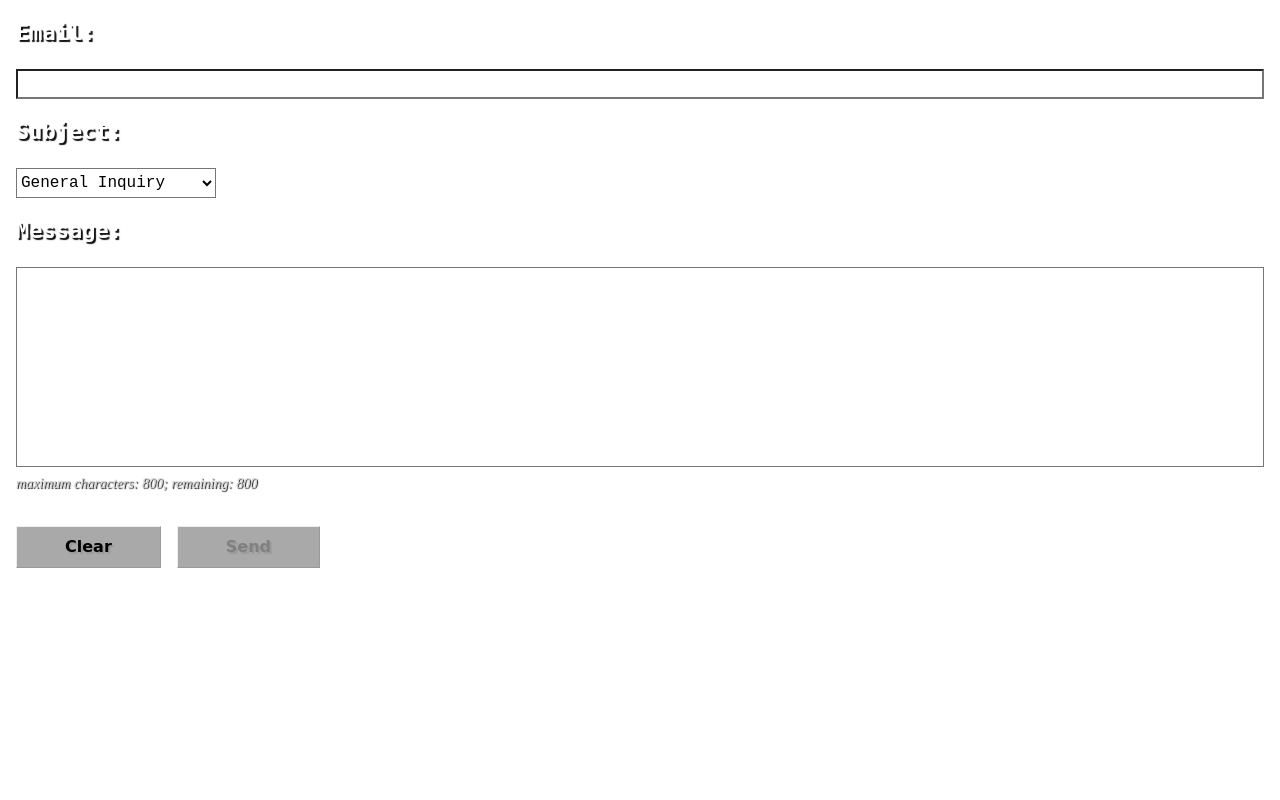
Test case: ContactForm › should show an error dialog window if the email is invalid
The width and height of the screenshot is (1280, 800).
Type "invalid-email" into the field labelled "Email". click: (640, 84)
box: [16,69,1264,99]
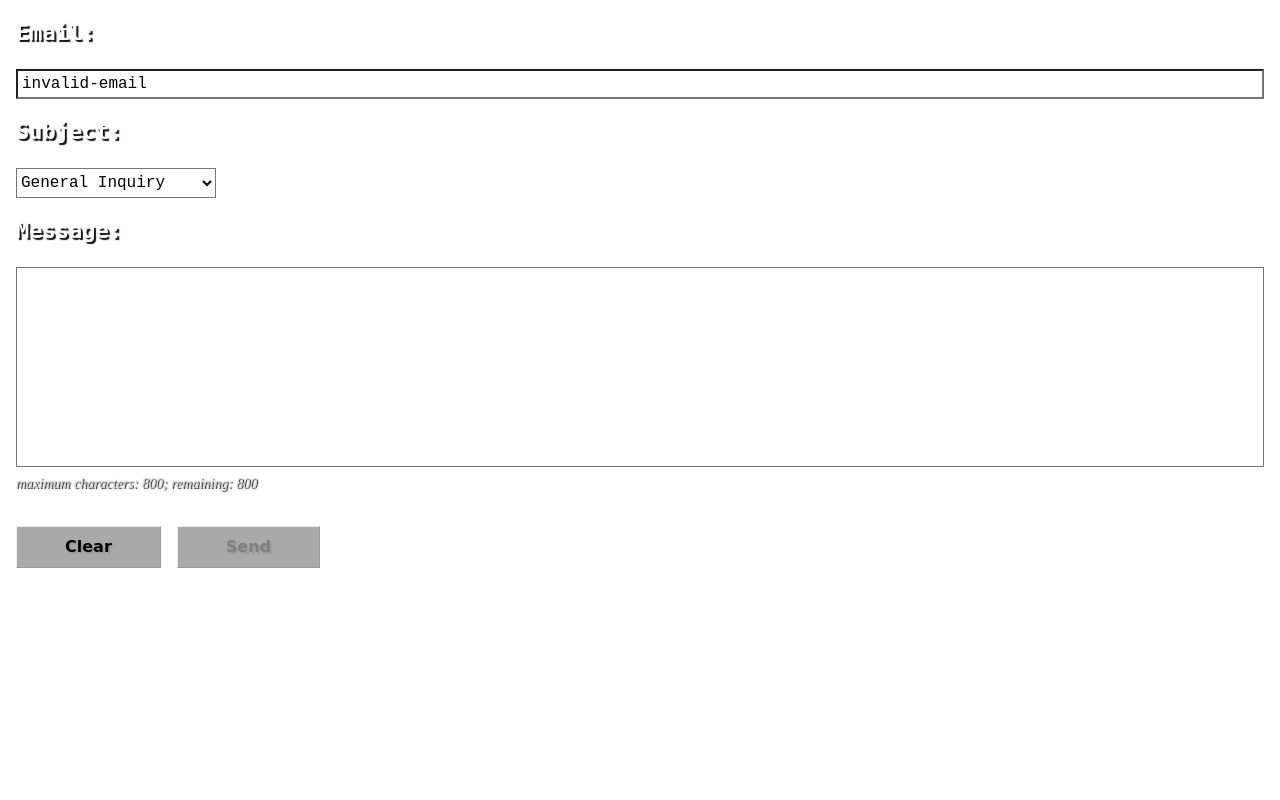
Type "macho macho man... I've got to be a macho man!" into the text box labelled "Message". click: (640, 367)
box: [16,267,1264,467]
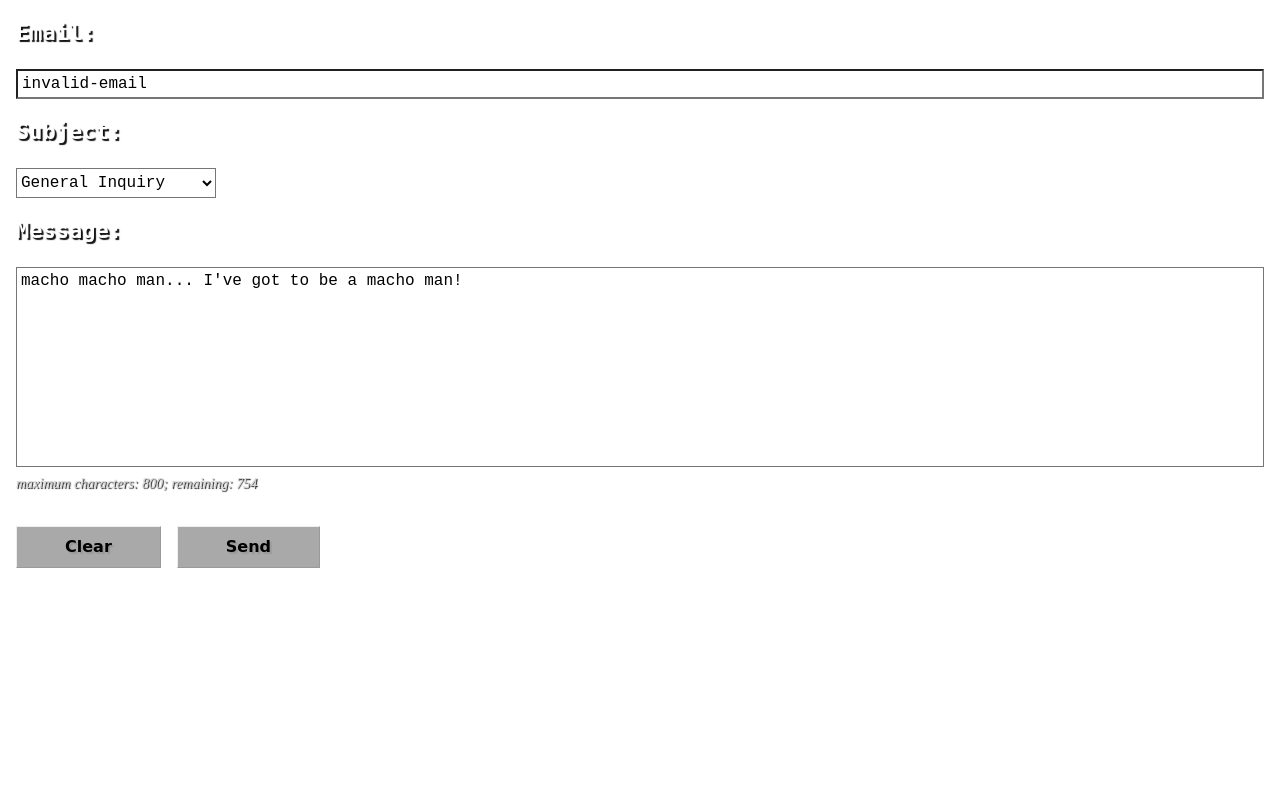
Click the button "Send". click: (248, 547)
box: [177,526,320,568]
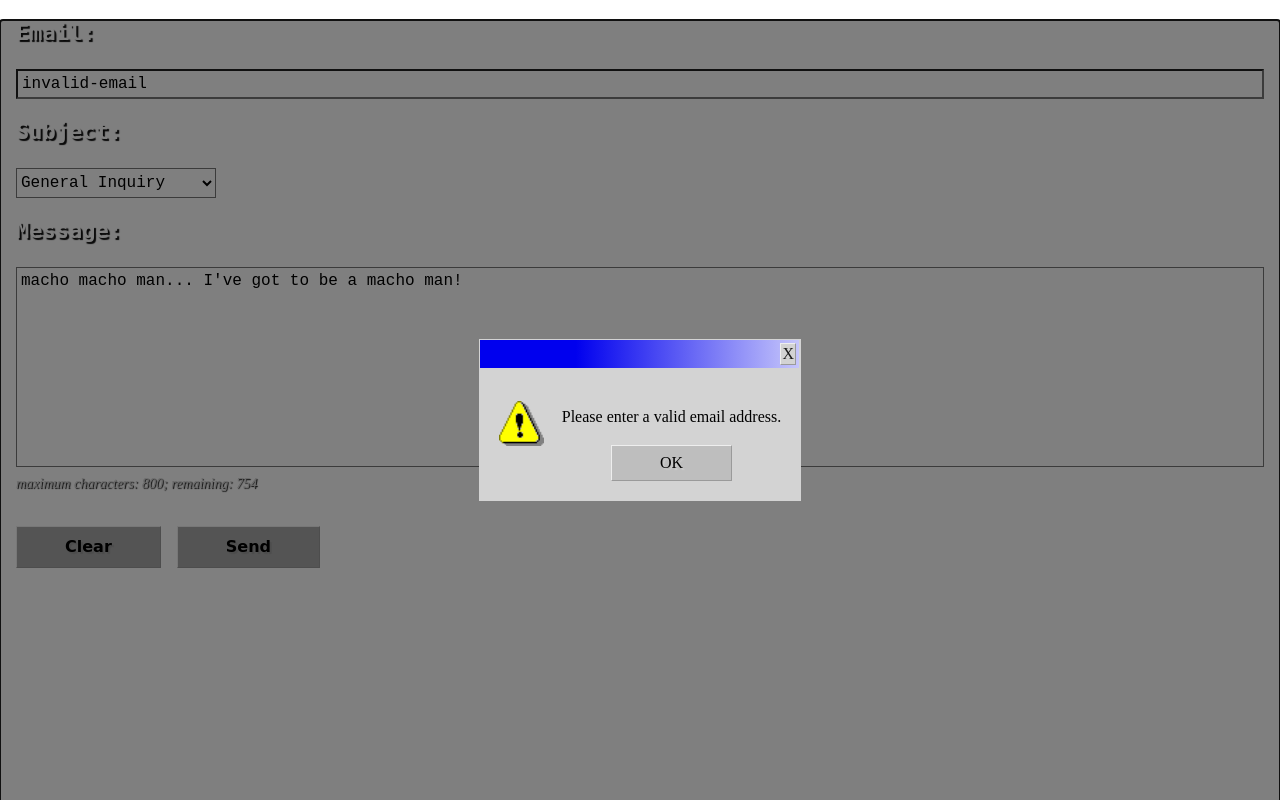
Now the dialog shows "Please enter a valid email address.", box [562,408,781,425]
